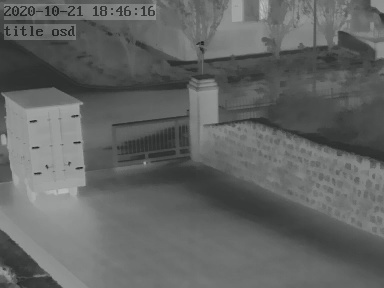vehicle: (1, 83, 84, 199)
